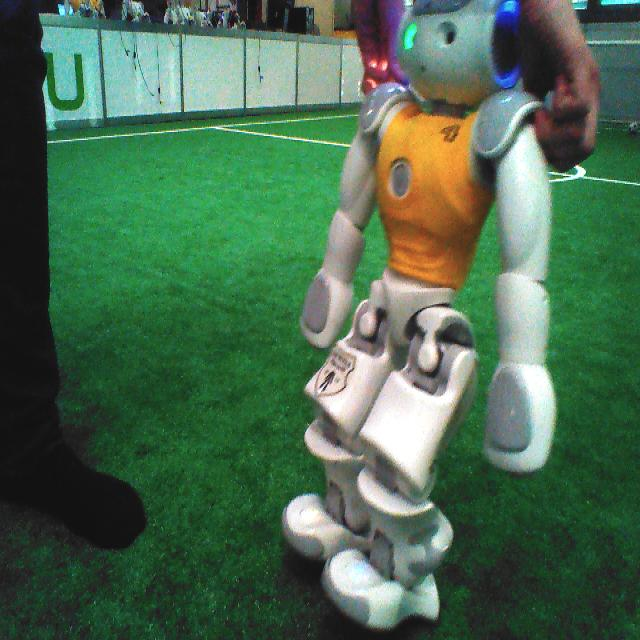ball: (629, 120, 640, 133)
